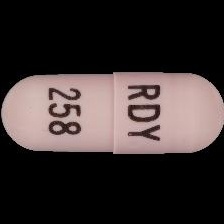63739-666: (0, 0, 224, 224)
